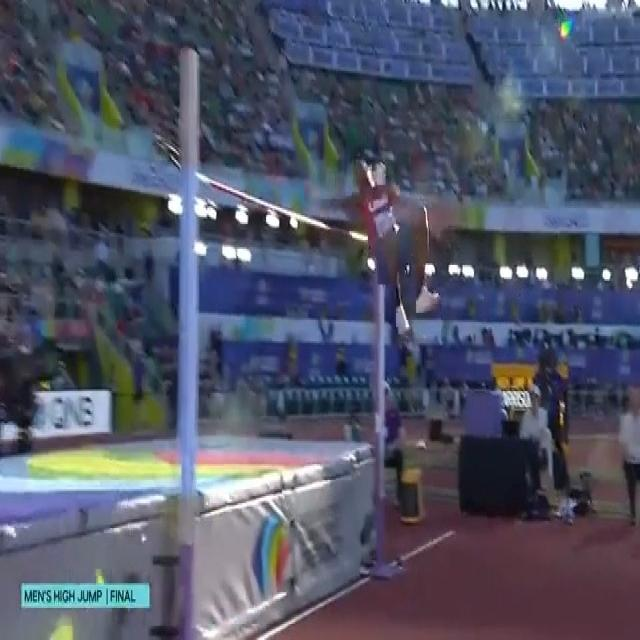land: (338, 154, 440, 334)
